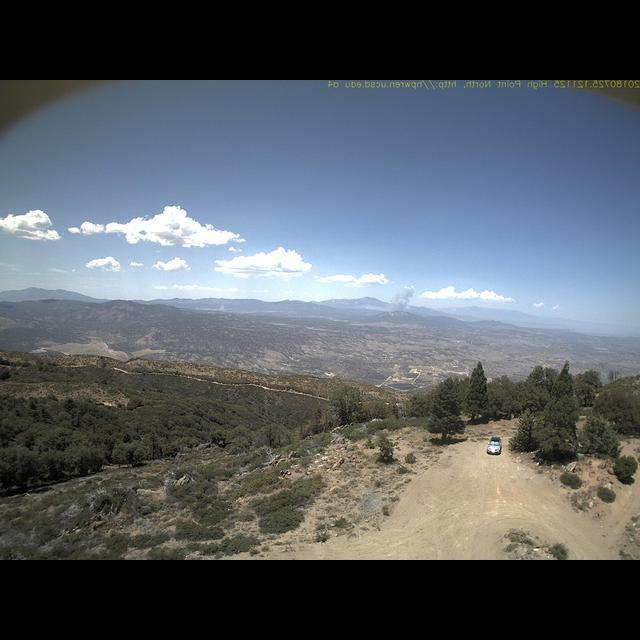Smoke: (383, 283, 420, 317)
